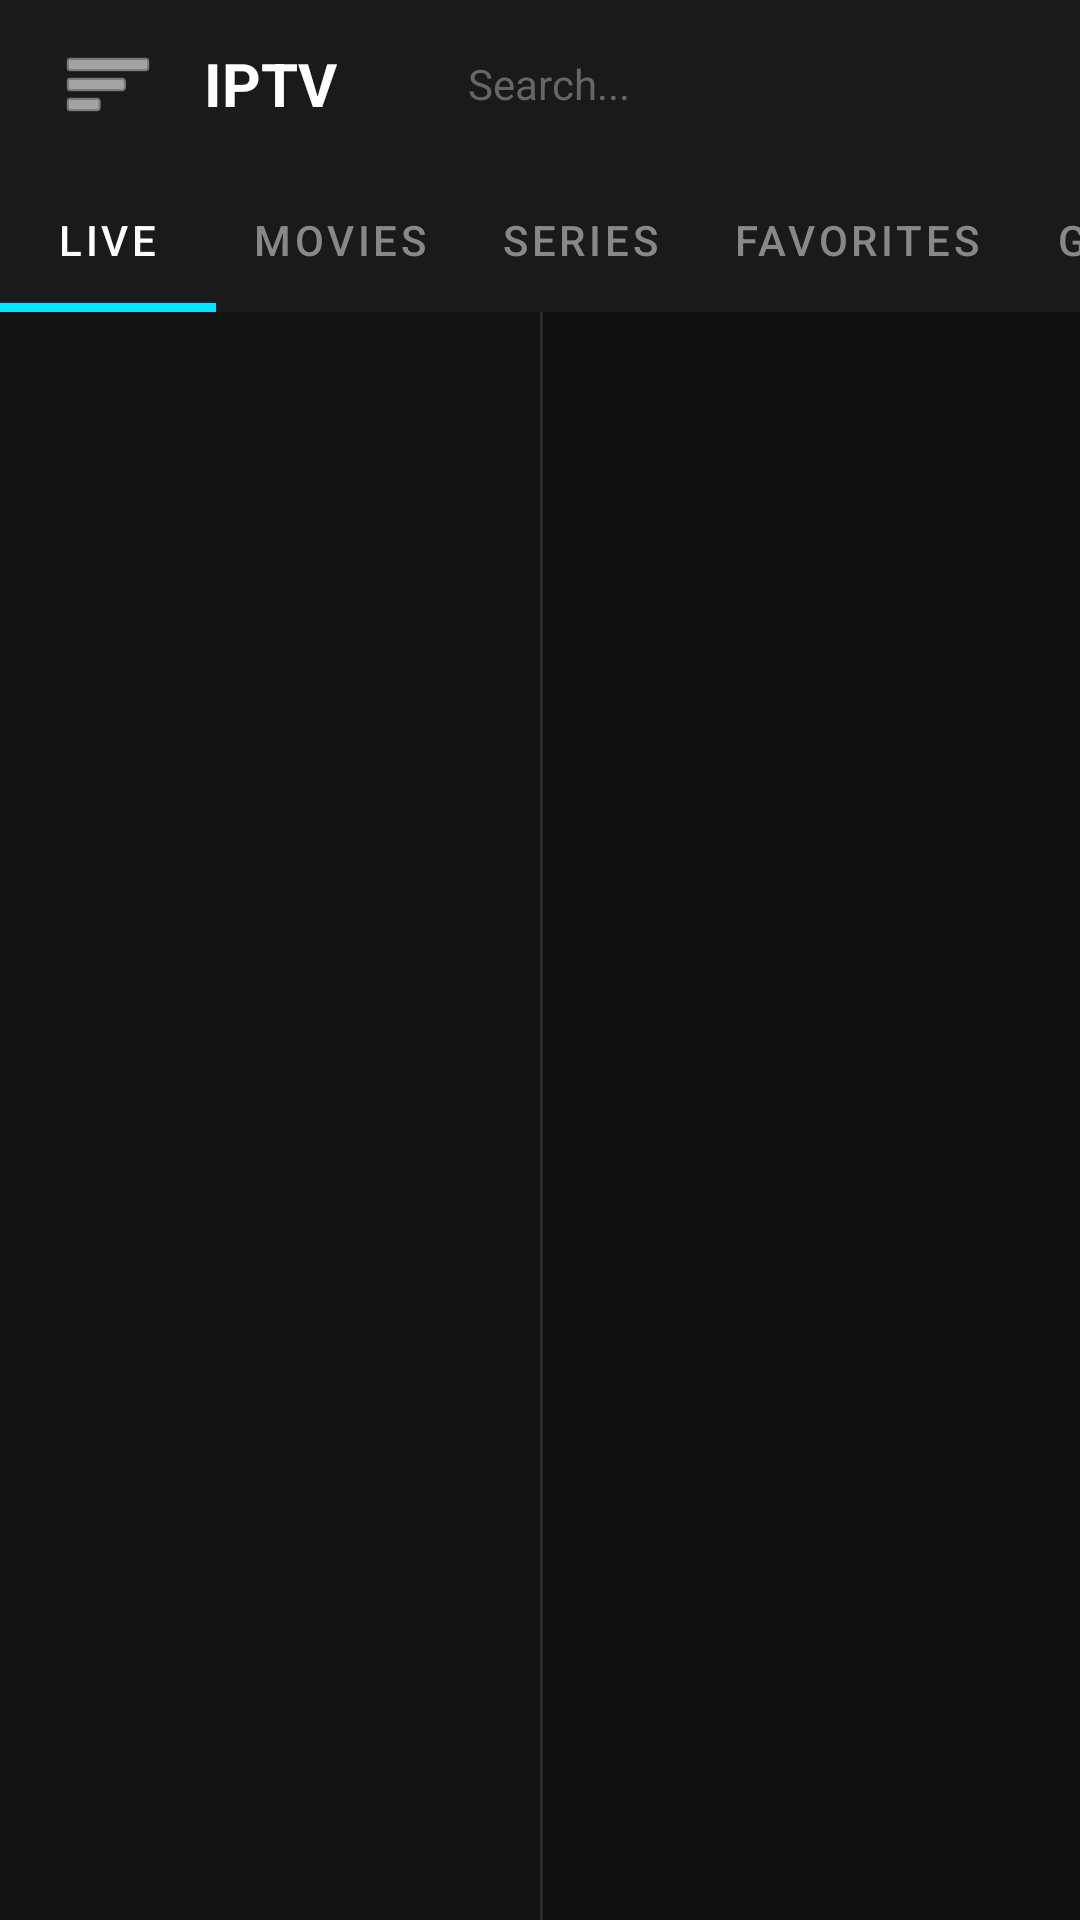

Point at icon controls on the screen. Image size 1080px×1920px, points as [x,y].
sort by size: [108,84]
